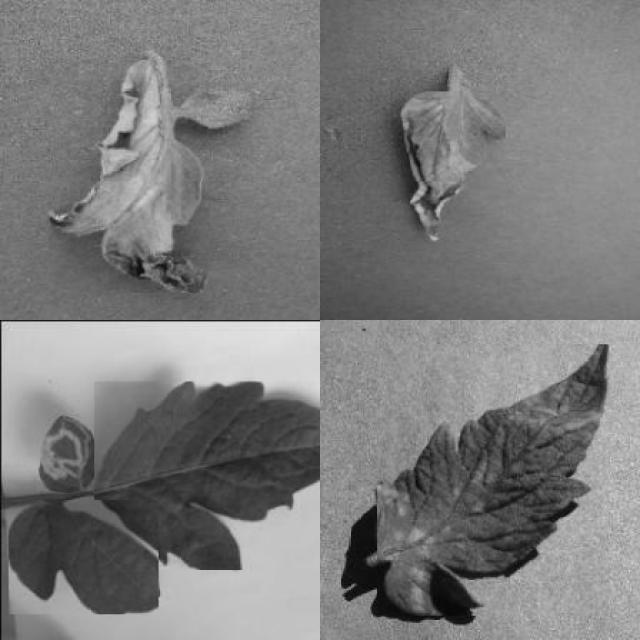Healthy: (94, 381, 320, 570), (8, 500, 158, 614)
Late Blight: (48, 60, 208, 293), (401, 87, 506, 244)
Leaf Miner: (37, 414, 100, 492)
Leaf Mold: (377, 344, 609, 616)
